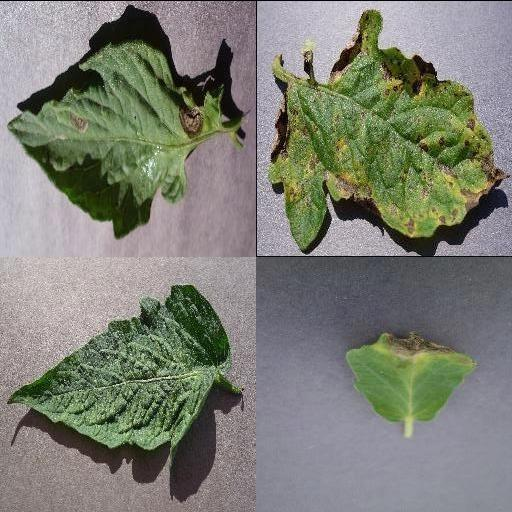Early Blight: (7, 42, 223, 236)
Late Blight: (346, 329, 478, 419)
Septoria: (267, 10, 508, 253)
Spider Mites: (5, 283, 231, 449)
